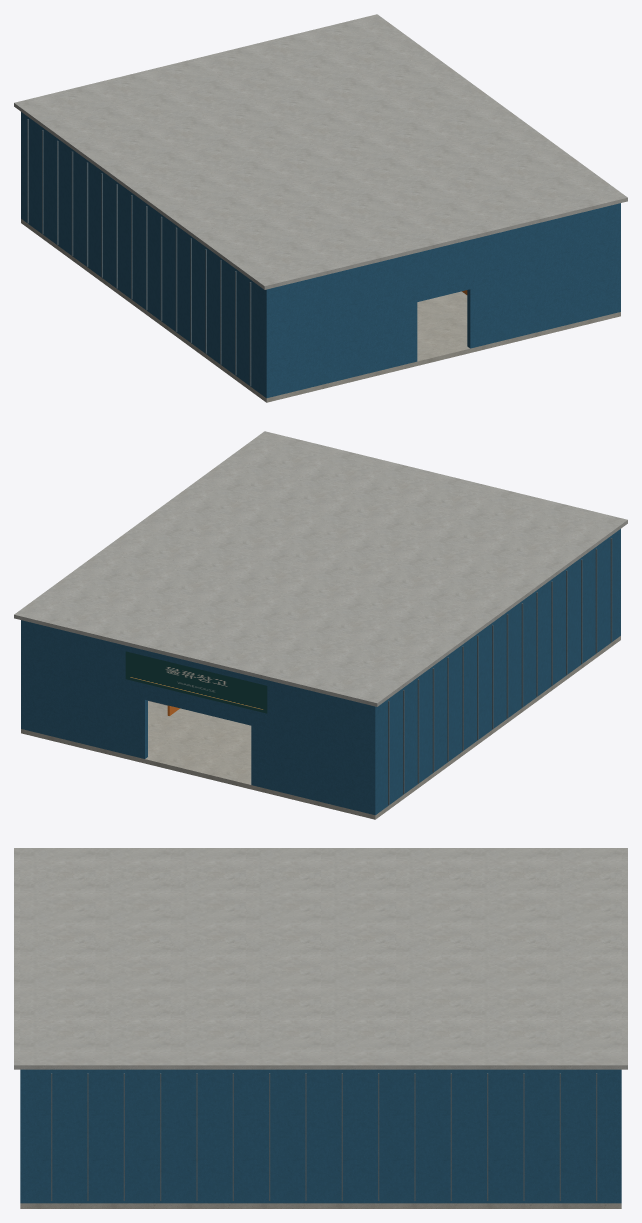
File: warehouse.glb
The picture shows the model from 3 angles, top to bottom: view 1: azimuth 30°, elevation 25°; view 2: azimuth 150°, elevation 25°; view 3: azimuth 270°, elevation 25°; orthographic projection. The views are drawn at different scales.
Visible parts, largest first — view 1: warehouse; view 2: warehouse; view 3: warehouse.
Part boxes in pixels (x1,y1,x2,y2): warehouse: (14,14,627,402); warehouse: (14,431,627,819); warehouse: (14,848,627,1208).
Bounding box in the file's own units: 20.5 × 6.44 × 24.5.
